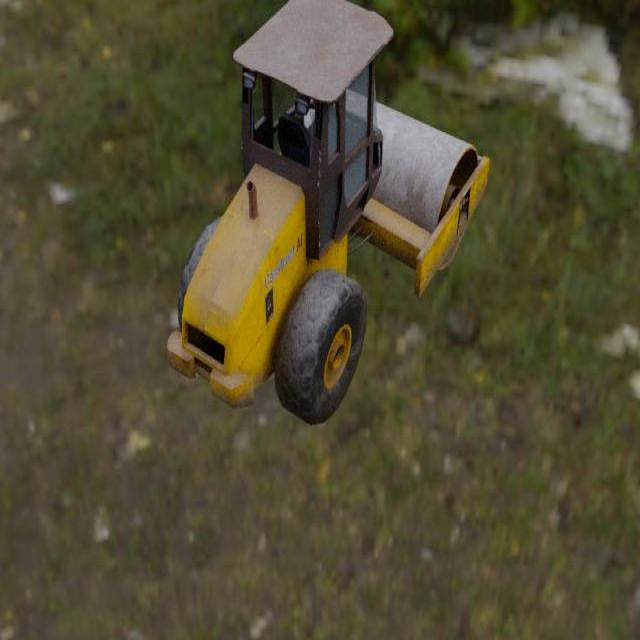Roller: (166, 0, 490, 427)
